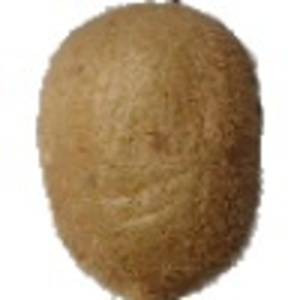kiwi: (35, 1, 265, 300)
